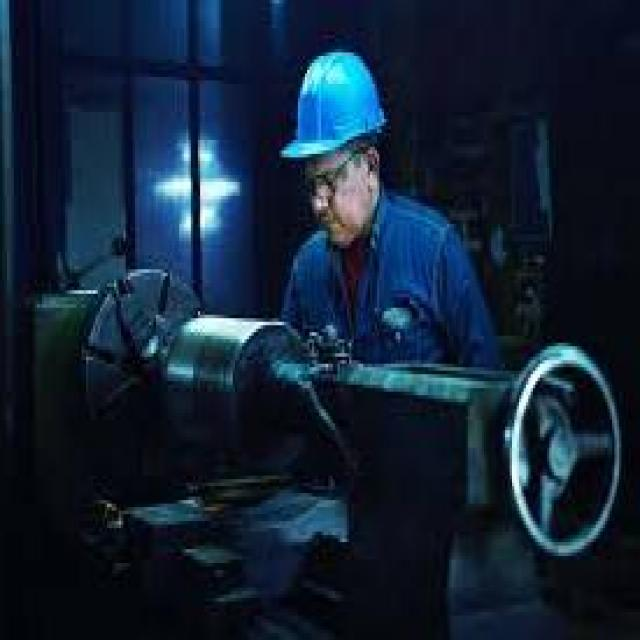Safety-Helmet: (272, 42, 396, 178)
